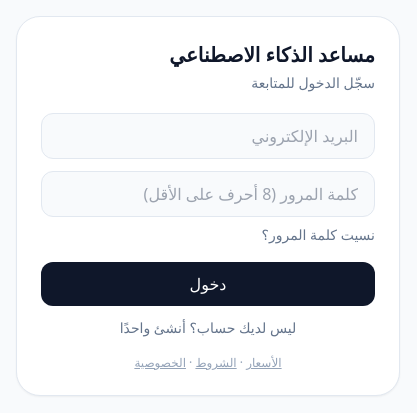
Test: AuthForm › يتحول لنموذج إنشاء حساب عند الضغط على زر التبديل
Click the button "ليس لديك حساب؟ أنشئ واحدًا".
click(208, 328)  # box [41,318,375,338]
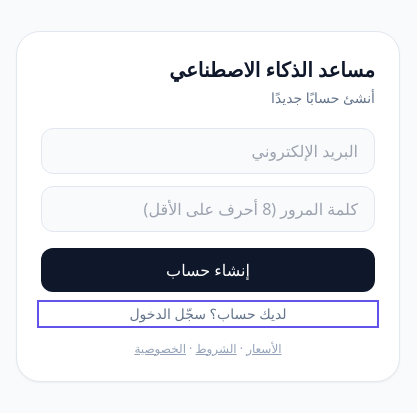
Expected: the button "إنشاء حساب" is shown, [41,248,375,292]
